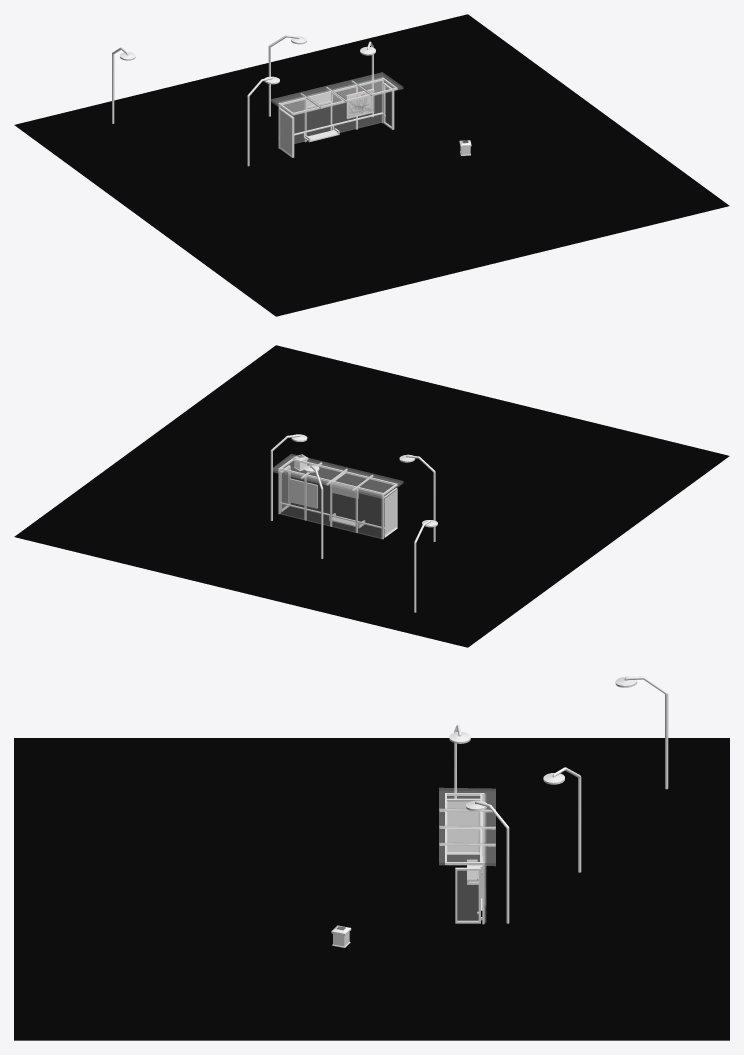
3 views of the same model, one above another, from view 1: azimuth 30°, elevation 25°; view 2: azimuth 150°, elevation 25°; view 3: azimuth 270°, elevation 25° (orthographic). The views are drawn at different scales.
Visible parts, largest first — view 1: Cube.017, Cube.002, Cube.001, Cylinder, Cube.008, Cube.003; view 2: Cube.017, Cube.001, Cube.002, Cylinder, Cube.016, Cube.003, Cube.008; view 3: Cube.017, Cube.002, Cylinder, Cube.008, Cube.010.
Boxes of the visible parts, x1,y1,x2,y2 form: Cube.017: (14,14,729,316); Cube.002: (271,72,403,115); Cube.001: (279,77,381,143); Cylinder: (112,35,375,166); Cube.008: (279,108,294,157); Cube.003: (279,78,397,114); Cube.017: (14,345,729,647); Cube.001: (279,469,381,538); Cube.002: (273,454,403,498); Cylinder: (270,434,437,612); Cube.016: (289,478,317,508); Cube.003: (279,458,397,494); Cube.008: (384,488,397,537); Cube.017: (14,738,729,1040); Cube.002: (439,788,495,865); Cylinder: (449,676,668,923); Cube.008: (447,798,480,854); Cube.010: (457,871,478,920).
Bounding box in the file's own units: 35.46 × 6.22 × 35.46.
9 materials, 1 textured.
